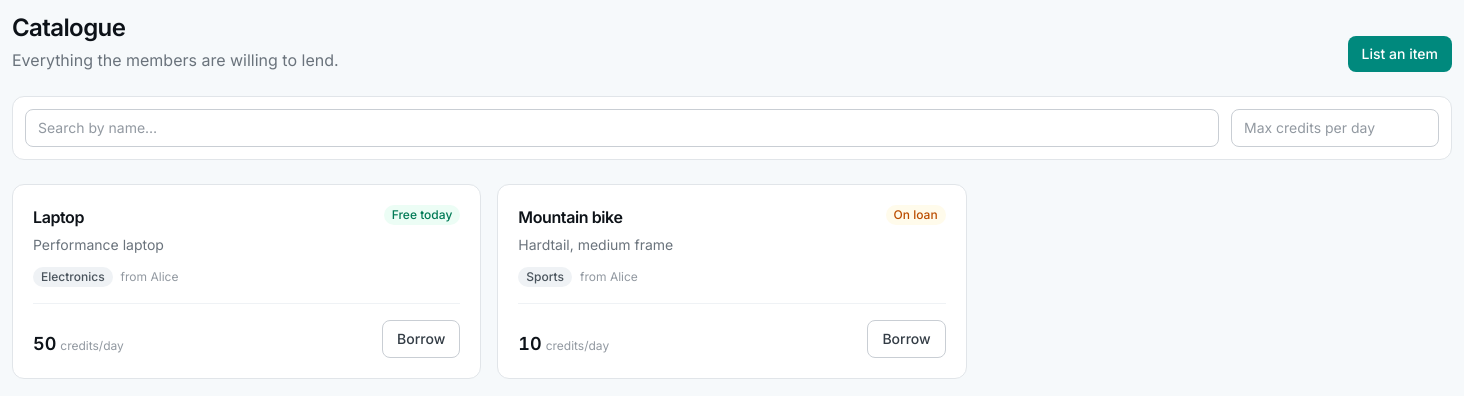
Test: the catalogue › narrows the list by price
Expected: the link "Laptop" is shown, [33,205,84,229]
Type "20" into the field named "Maximum credits per day" at (1335, 128), box [1231,109,1439,147]
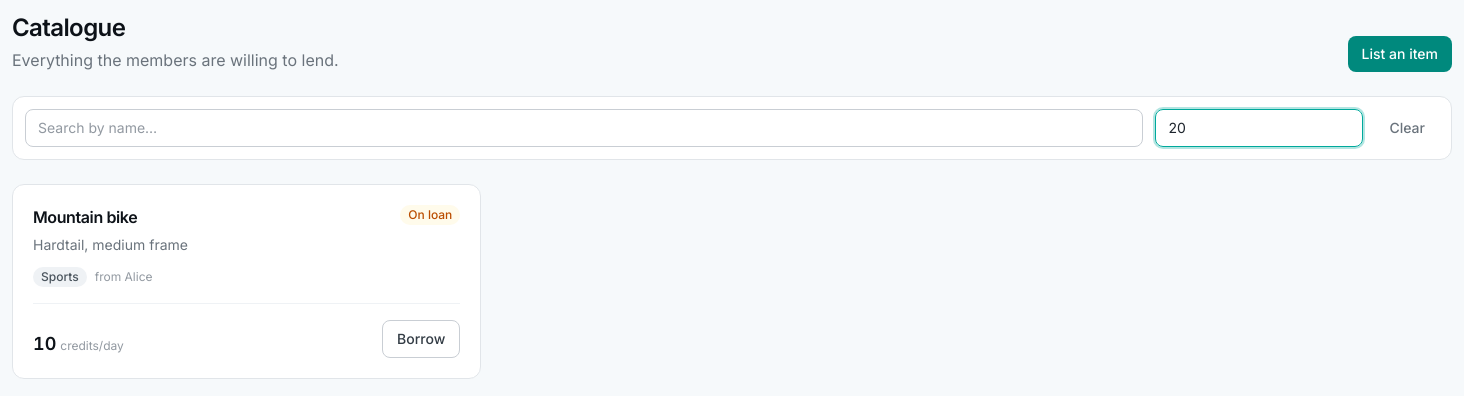
Expected: the link "Mountain bike" is shown, [33,205,137,229]
Now the link "Laptop" is gone
